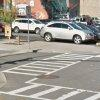Crosswalk: (7, 48, 82, 97)
